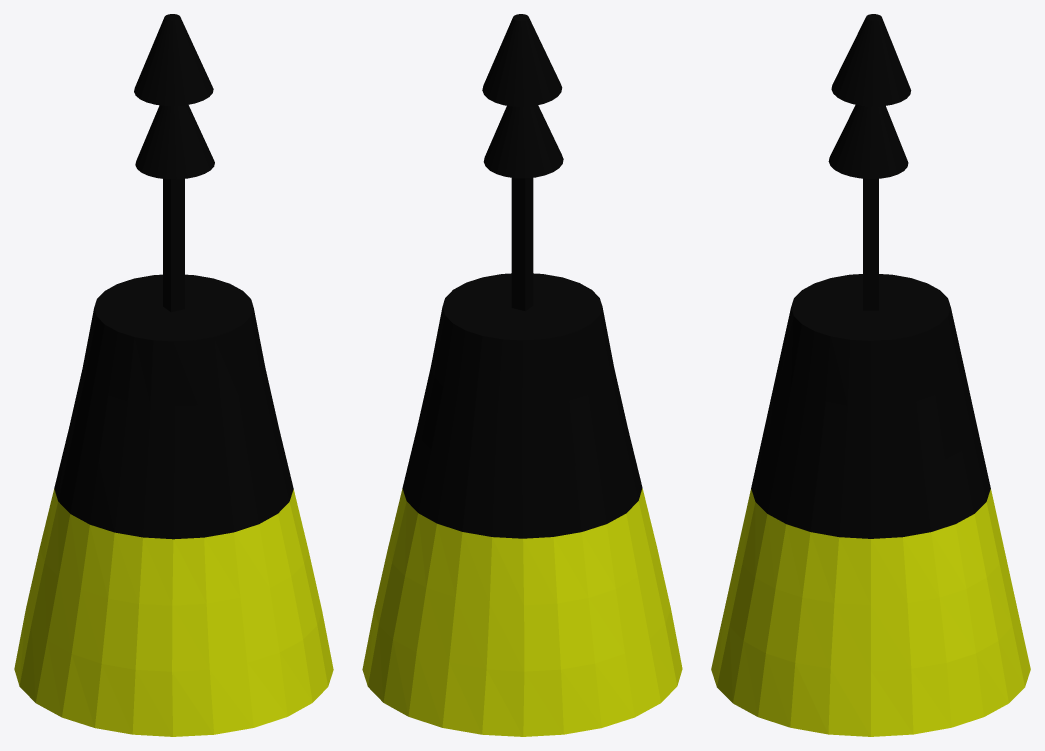
The model's file is north.dae.
3 views of the same model, side by side, from view 1: azimuth 30°, elevation 25°; view 2: azimuth 150°, elevation 25°; view 3: azimuth 270°, elevation 25° (orthographic).
Parts seen in each view (by area): view 1: Objet01; view 2: Objet01; view 3: Objet01.
Part boxes in pixels (bbox=[...]): Objet01: bbox=[14, 14, 333, 736]; Objet01: bbox=[362, 14, 682, 736]; Objet01: bbox=[711, 14, 1030, 736].
Bounding box in the file's own units: 1.02 × 1.02 × 2.29.
